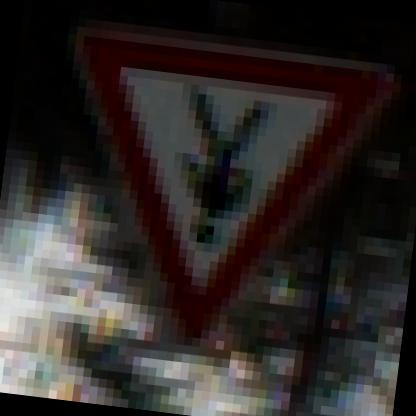crosswalk: (46, 19, 404, 359)
